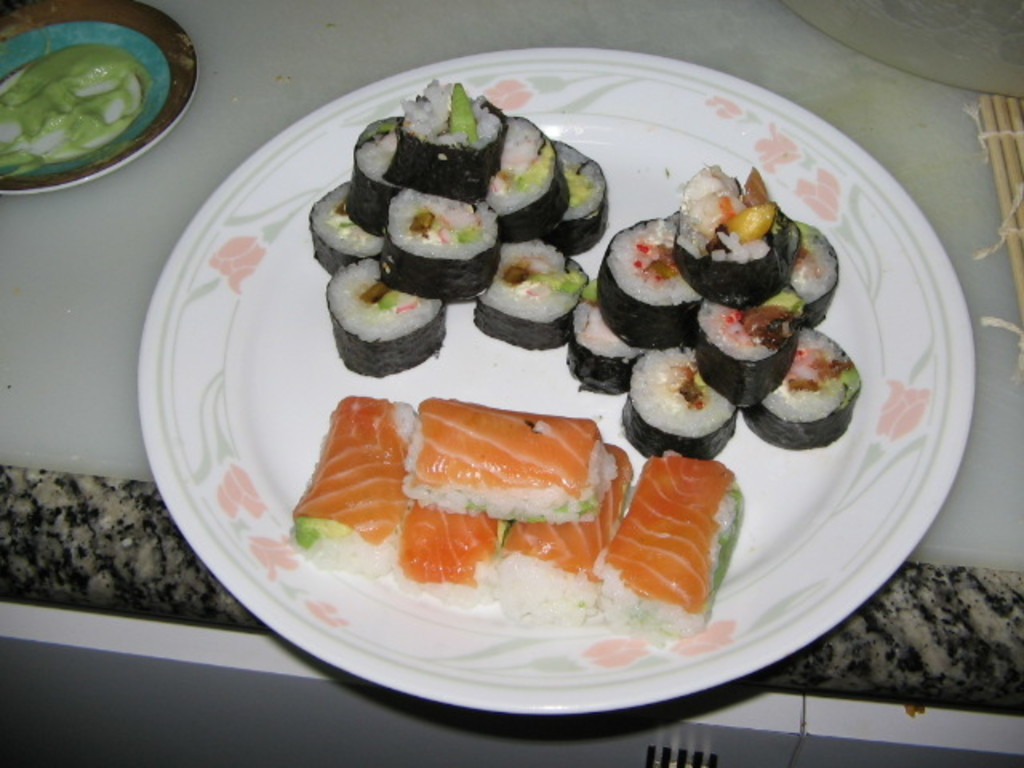sushi: (307, 77, 874, 451), (286, 398, 744, 634), (390, 78, 510, 206), (643, 349, 728, 456)
